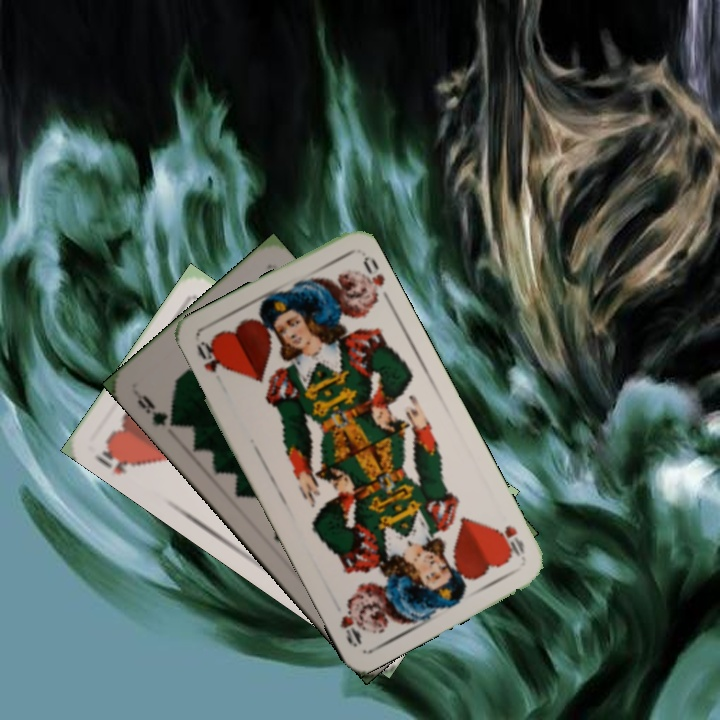G9: (130, 387, 181, 430)
HO: (98, 438, 143, 477), (489, 521, 528, 561), (192, 337, 222, 375)
